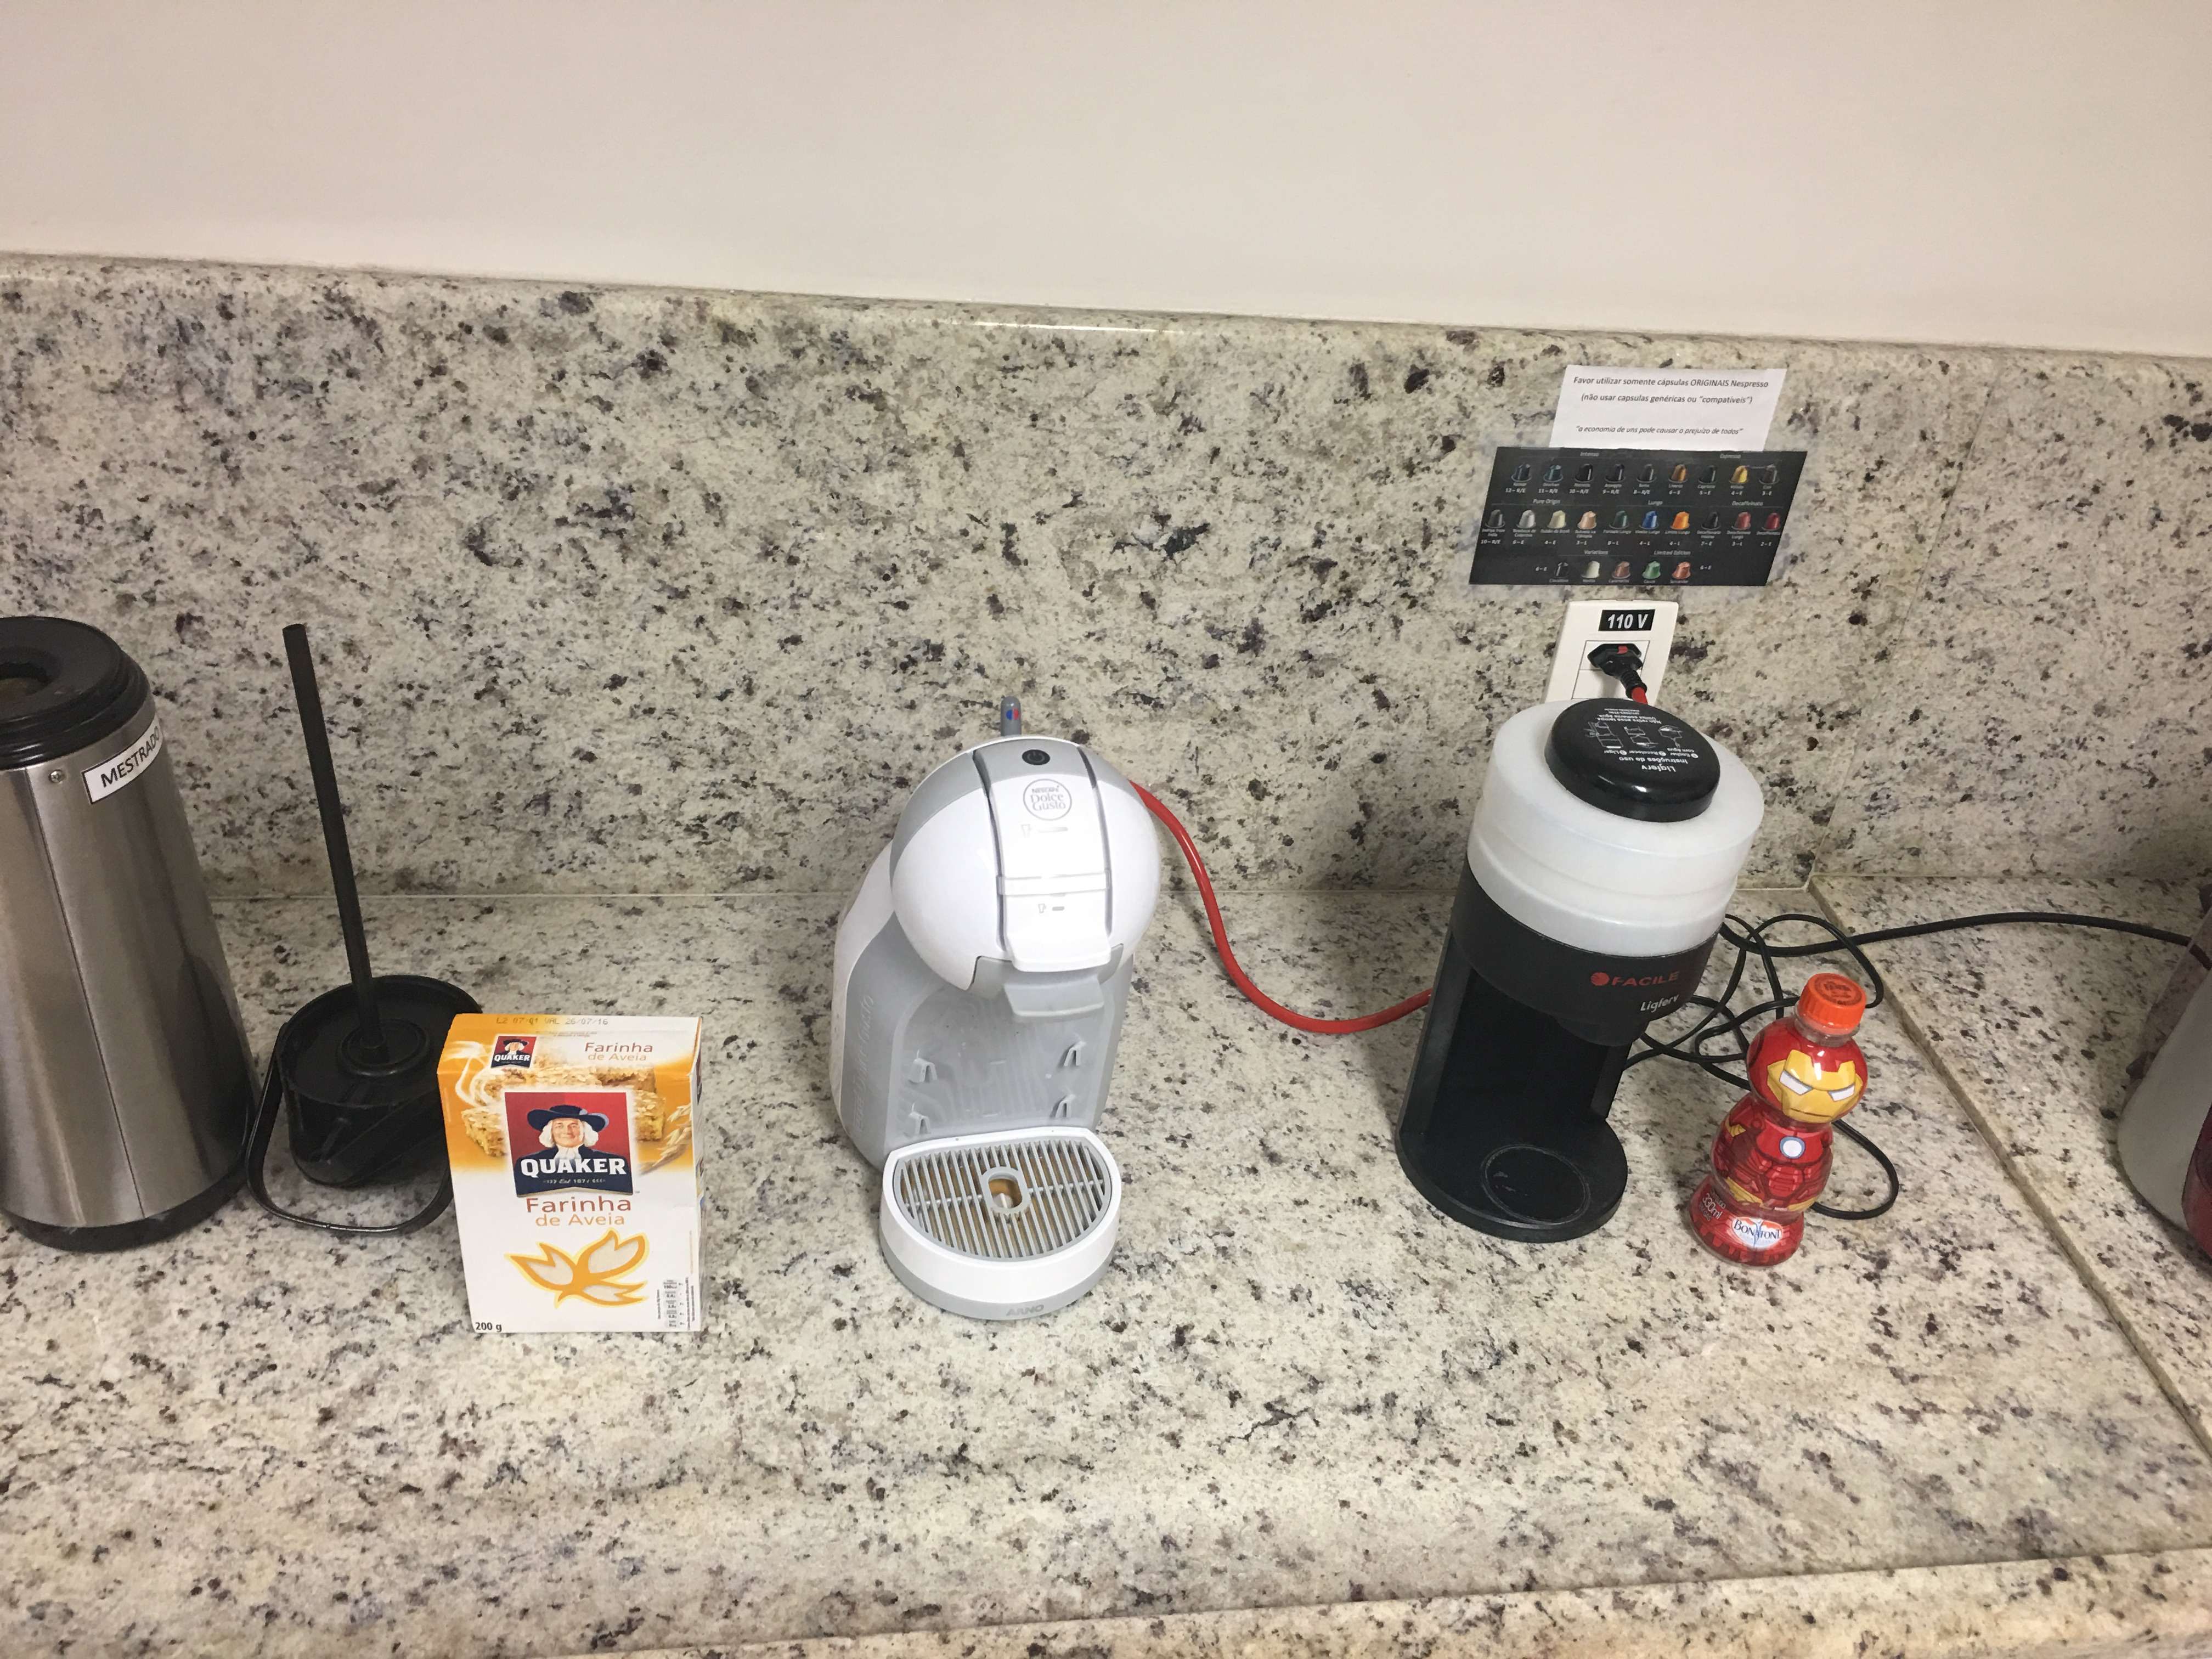cereal: (433, 1000, 717, 1346)
iron_man: (1679, 968, 1878, 1268)
